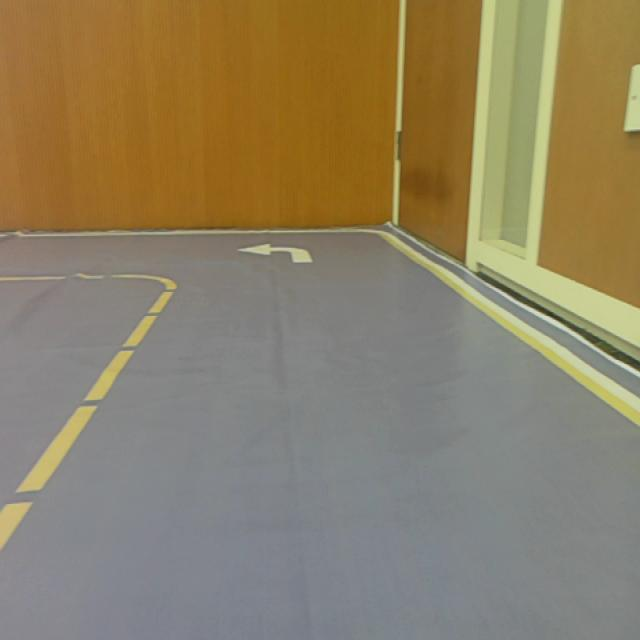left_lane: (0, 286, 180, 556)
right_lane: (379, 227, 640, 432)
